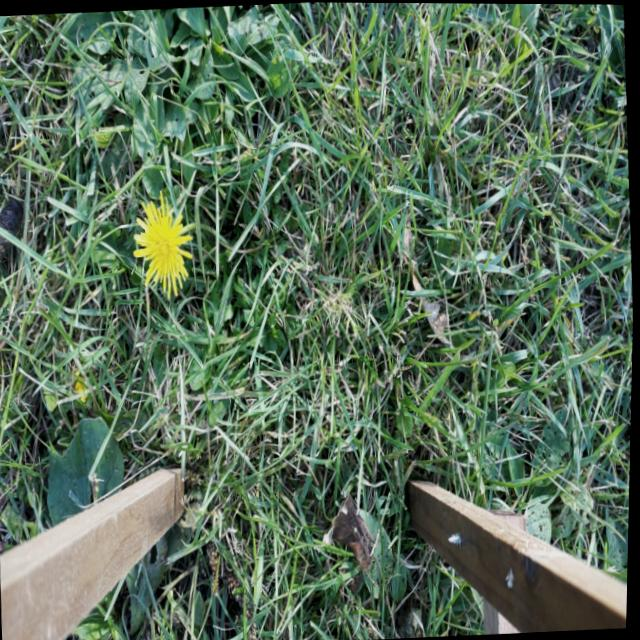base: (215, 225, 240, 265)
flower: (132, 195, 197, 299)
